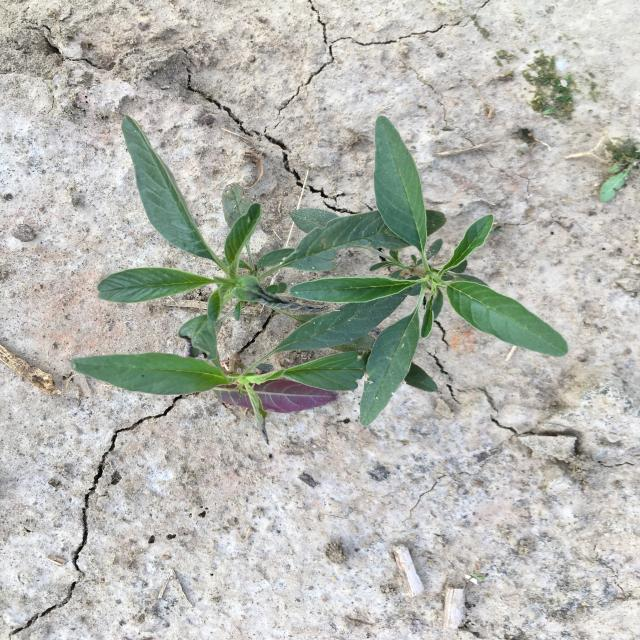Waterhemp: (97, 114, 447, 393), (288, 116, 570, 427), (69, 274, 420, 443)
